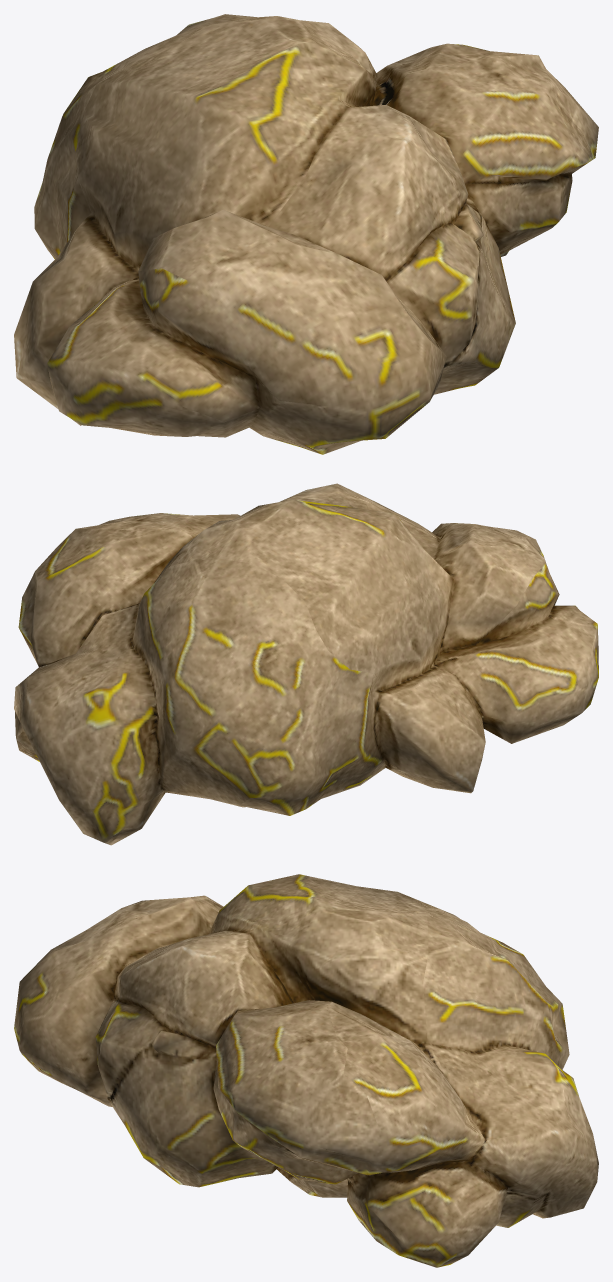
The model's file is mine_metal_sahara_round.glb.
3 views of the same model, one above another, from view 1: azimuth 30°, elevation 25°; view 2: azimuth 150°, elevation 25°; view 3: azimuth 270°, elevation 25° (orthographic). The views are drawn at different scales.
Parts seen in each view (by area): view 1: mine_metal_sahara_round_part0; view 2: mine_metal_sahara_round_part0; view 3: mine_metal_sahara_round_part0.
Boxes of the visible parts, <box> form: mine_metal_sahara_round_part0: <box>14,14,598,454</box>; mine_metal_sahara_round_part0: <box>14,483,598,845</box>; mine_metal_sahara_round_part0: <box>14,874,598,1267</box>.
Bounding box in the file's own units: 3.96 × 2.18 × 4.08.
Materials: 1 (1 with a texture image).
